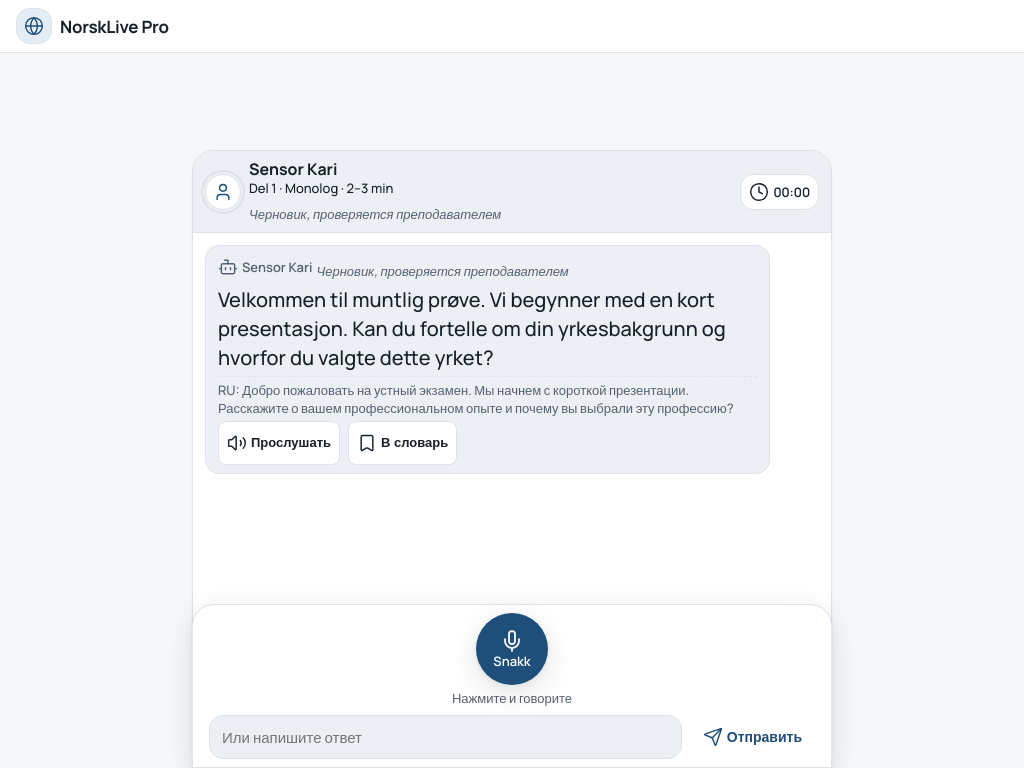
Test: #46 recording until «Готово» › the recording timer counts up while recording
Click the button with id "micToggleBtn".
click(512, 649)  # box 476,613 -> 548,685
Wait 3100 ms
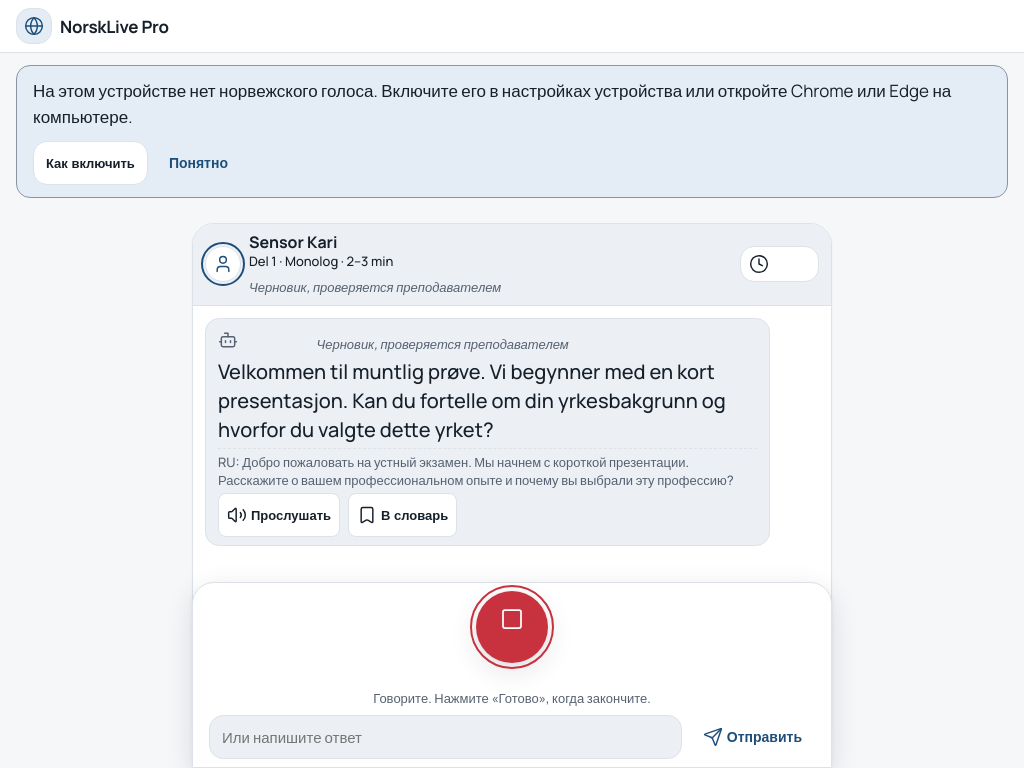
expect the text with id "micRecordingTimer" reads "0:03 / 2:00": met, box 478,667 -> 546,685
